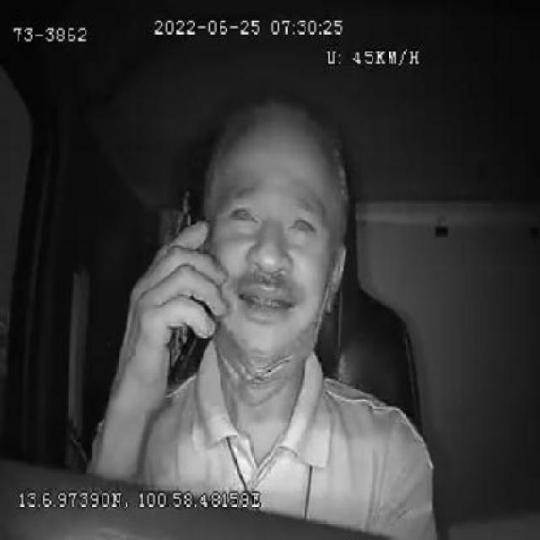phone: (153, 195, 203, 366)
